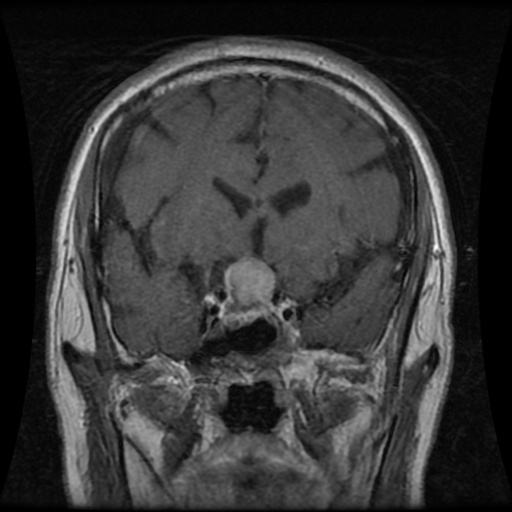pituitary: (227, 257, 272, 303)
